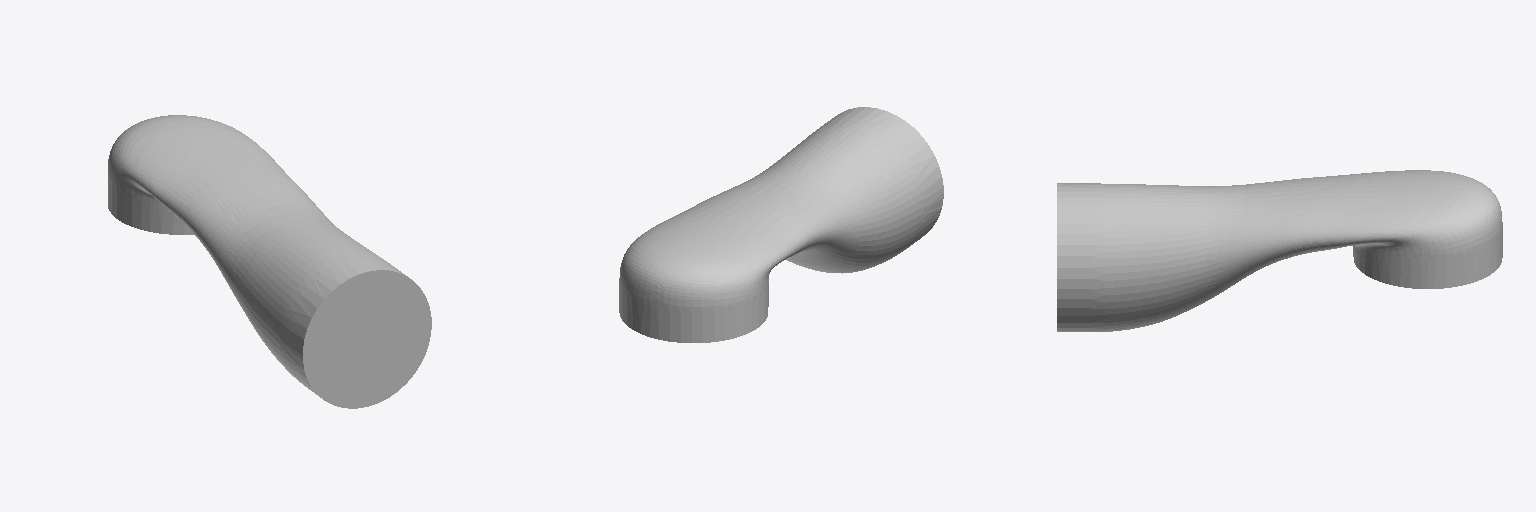
File: arm_half_2.obj
3 renders of one model, left to right at view 1: azimuth 30°, elevation 25°; view 2: azimuth 150°, elevation 25°; view 3: azimuth 270°, elevation 25°, orthographic.
Bounding box in the file's own units: 0.0825 × 0.0849 × 0.2461.